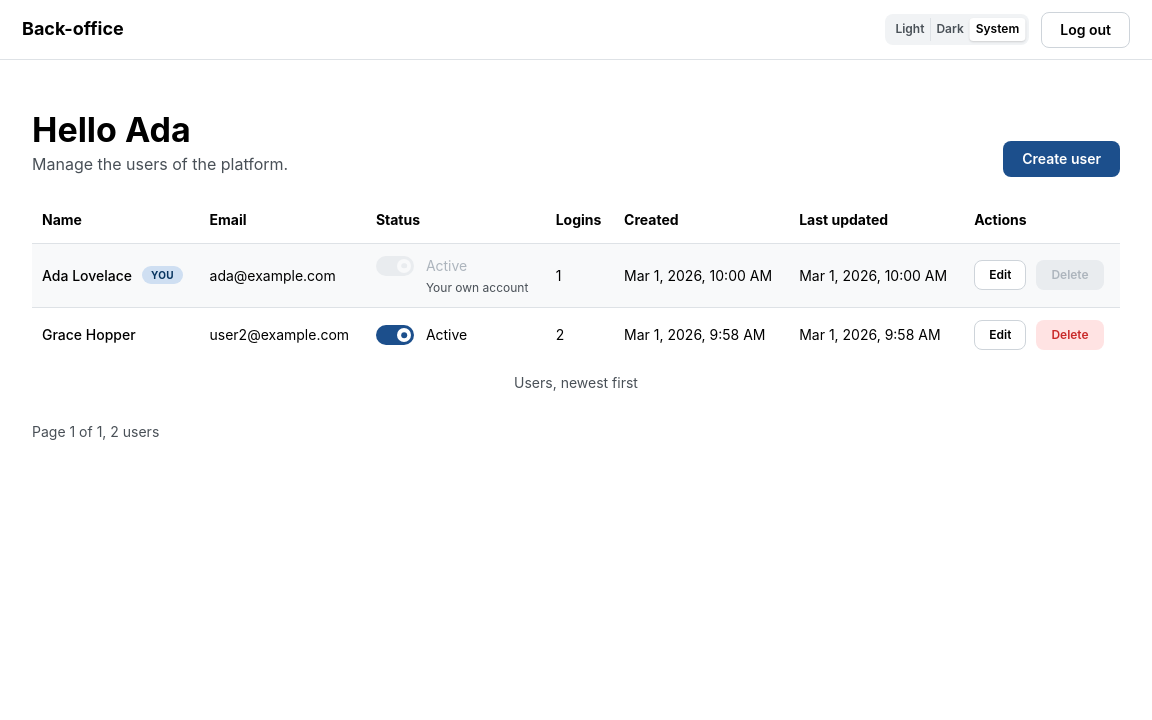
Test case: dashboard: create, edit, status, delete › DASH-42 a failed status change keeps the switch and announces the error
Check: the table is shown, box x1=32 y1=197 x2=1120 y2=394
Click the switch named "Active: Grace Hopper" at (395, 335), box x1=376 y1=325 x2=467 y2=345
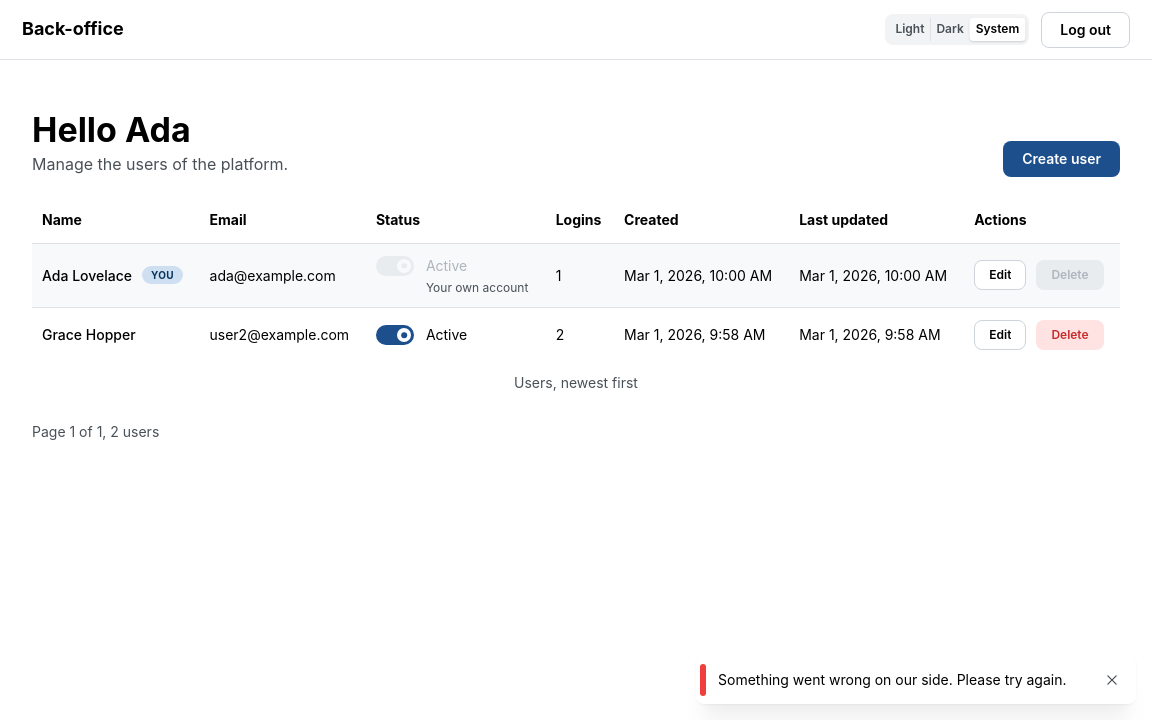
Check: the text "Something went wrong on our side. Please try again." is shown, box x1=718 y1=670 x2=1088 y2=690
